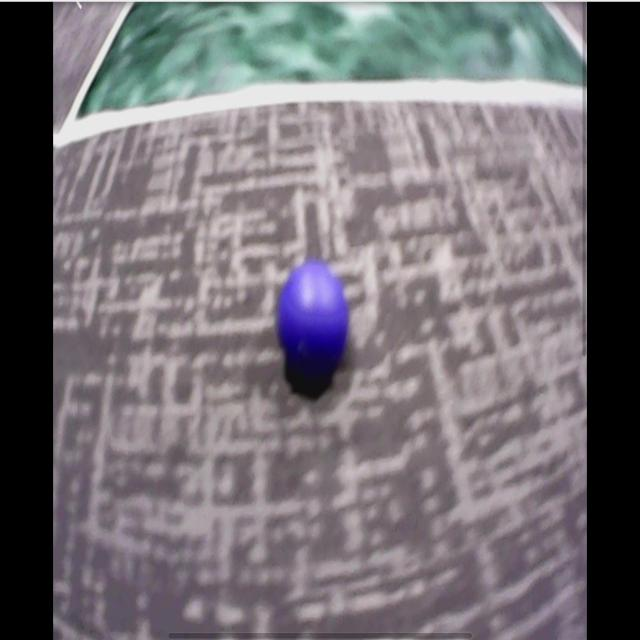ball: (278, 261, 348, 368)
